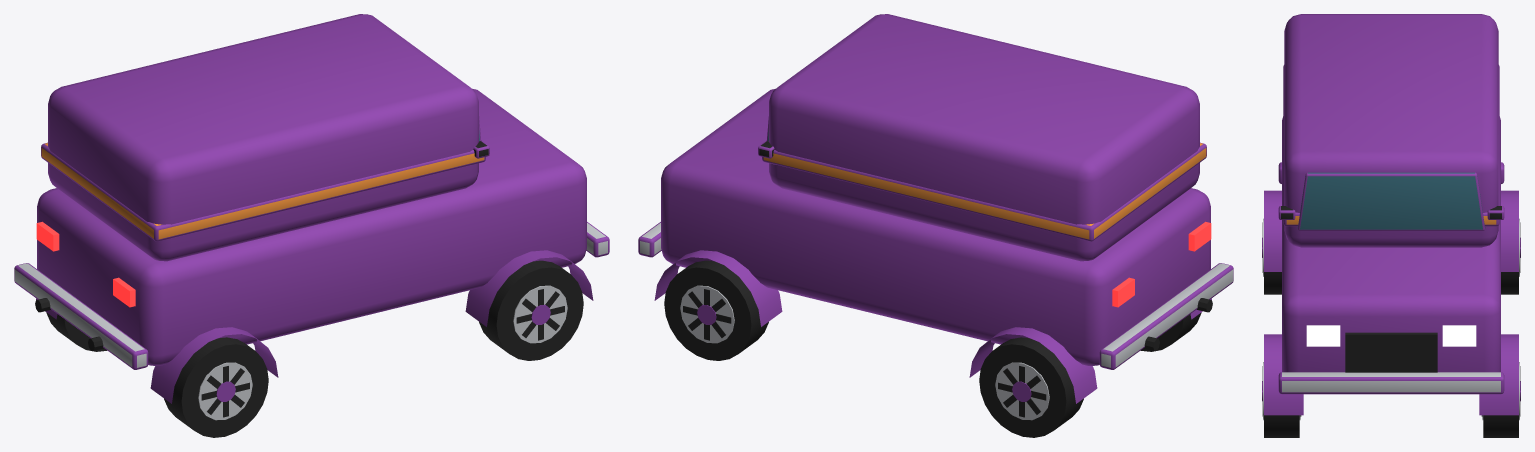
The model's file is disco-inferno.glb.
The picture shows the model from 3 angles, left to right: view 1: azimuth 30°, elevation 25°; view 2: azimuth 150°, elevation 25°; view 3: azimuth 270°, elevation 25°; orthographic projection. The views are drawn at different scales.
Parts seen in each view (by area): view 1: body, wheel_FR, wheel_RR, wheel_RL; view 2: body, wheel_FL, wheel_RL, wheel_RR; view 3: body, wheel_FL, wheel_FR, wheel_RL, wheel_RR.
Part boxes in pixels (box(x1,y1,x2,y2)): body: box(14, 14, 609, 403); wheel_FR: box(479, 260, 583, 360); wheel_RR: box(164, 337, 268, 437); wheel_RL: box(46, 312, 107, 351); body: box(638, 14, 1233, 403); wheel_FL: box(664, 260, 768, 360); wheel_RL: box(979, 337, 1083, 437); wheel_RR: box(1140, 312, 1201, 351); body: box(1264, 14, 1518, 415); wheel_FL: box(1481, 362, 1520, 437); wheel_FR: box(1262, 362, 1301, 437); wheel_RL: box(1501, 218, 1520, 294); wheel_RR: box(1262, 218, 1281, 294).
Bounding box in the file's own units: 5.01 × 2.7 × 2.48.
